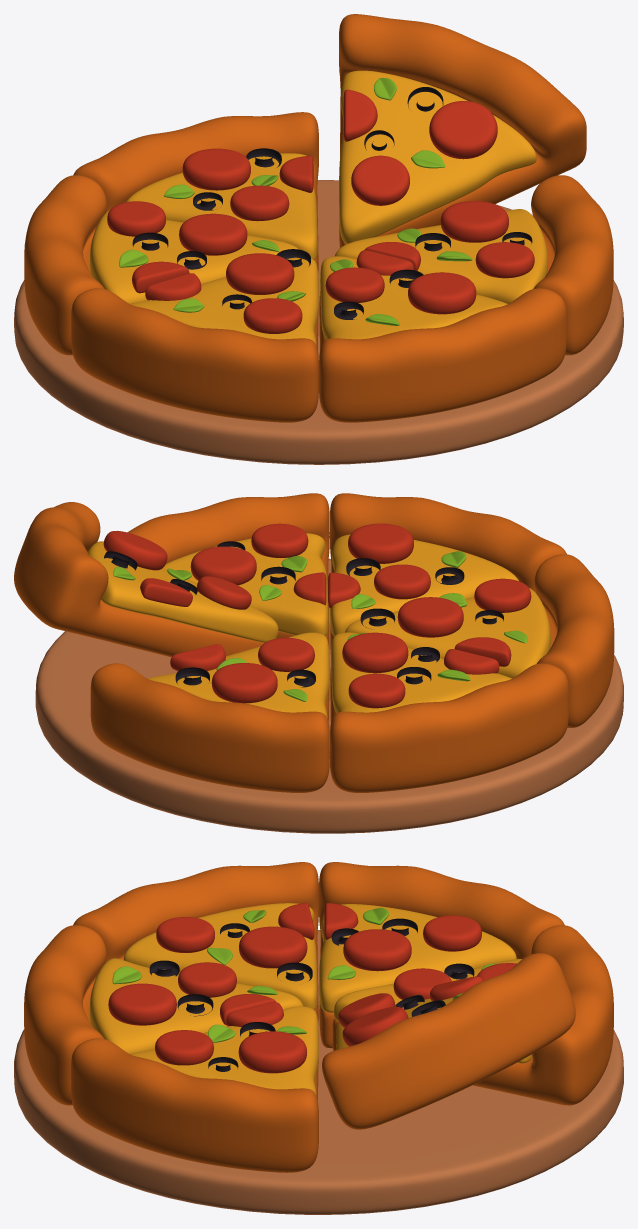
3 renders of one model, top to bottom at view 1: azimuth 30°, elevation 25°; view 2: azimuth 150°, elevation 25°; view 3: azimuth 270°, elevation 25°, orthographic. The views are drawn at different scales.
Visible parts, largest first — view 1: Circle.099, Circle.070, Circle.071, Circle.065, Plane, Circle.069, Circle.073, Circle.072, Plane.059, Plane.001, Plane.058, Plane.057 (+19 smaller); view 2: Circle.099, Circle.072, Circle.073, Circle.065, Circle.070, Circle.071, Circle.069, Plane, Plane.057, Plane.002, Plane.001, Plane.058 (+19 smaller); view 3: Circle.099, Circle.065, Circle.069, Circle.073, Circle.072, Circle.071, Circle.070, Plane.058, Plane.057, Plane.002, Plane.001, Circle.074 (+16 smaller).
Part boxes in pixels (box(x1,y1,x2,y2)): Circle.099: box(14, 180, 623, 464); Circle.070: box(319, 288, 566, 422); Circle.071: box(71, 288, 318, 422); Circle.065: box(339, 14, 586, 247); Plane: box(339, 70, 536, 243); Circle.069: box(531, 175, 613, 355); Circle.073: box(73, 112, 318, 272); Circle.072: box(24, 175, 106, 355); Plane.059: box(126, 153, 317, 259); Plane.001: box(335, 209, 547, 303); Plane.058: box(90, 209, 298, 303); Plane.057: box(130, 257, 318, 345); Circle.099: box(35, 558, 623, 833); Circle.072: box(329, 663, 568, 792); Circle.073: box(90, 663, 329, 792); Circle.065: box(14, 502, 264, 657); Circle.070: box(330, 493, 566, 654); Circle.071: box(534, 554, 614, 727); Circle.069: box(127, 493, 329, 648); Plane: box(87, 541, 278, 642); Plane.057: box(345, 588, 550, 678); Plane.002: box(330, 534, 518, 636); Plane.001: box(163, 533, 328, 635); Plane.058: box(331, 632, 511, 713); Circle.099: box(14, 930, 623, 1214); Circle.065: box(322, 953, 575, 1129); Circle.069: box(71, 1038, 318, 1172); Circle.073: box(332, 925, 613, 1105); Circle.072: box(319, 862, 564, 1048); Circle.071: box(73, 862, 318, 1022); Circle.070: box(24, 925, 106, 1105); Plane.058: box(319, 904, 516, 1012); Plane.057: box(123, 903, 317, 1009); Plane.002: box(89, 958, 303, 1053); Plane.001: box(130, 1006, 318, 1095); Circle.074: box(238, 1031, 306, 1073).
Size of the model in its own units: 3.26 by 1.17 by 3.15.
